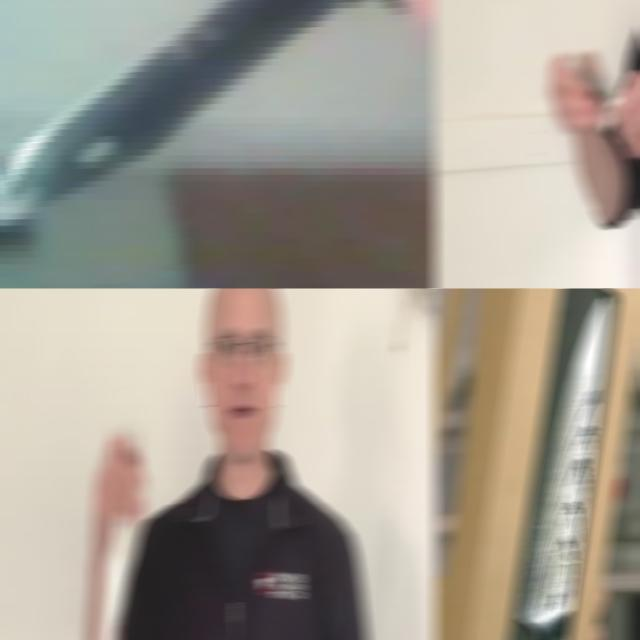Knife: (507, 296, 609, 640)
Knife_Handle: (0, 0, 438, 229), (545, 49, 640, 193), (92, 427, 150, 640), (565, 54, 640, 192)
